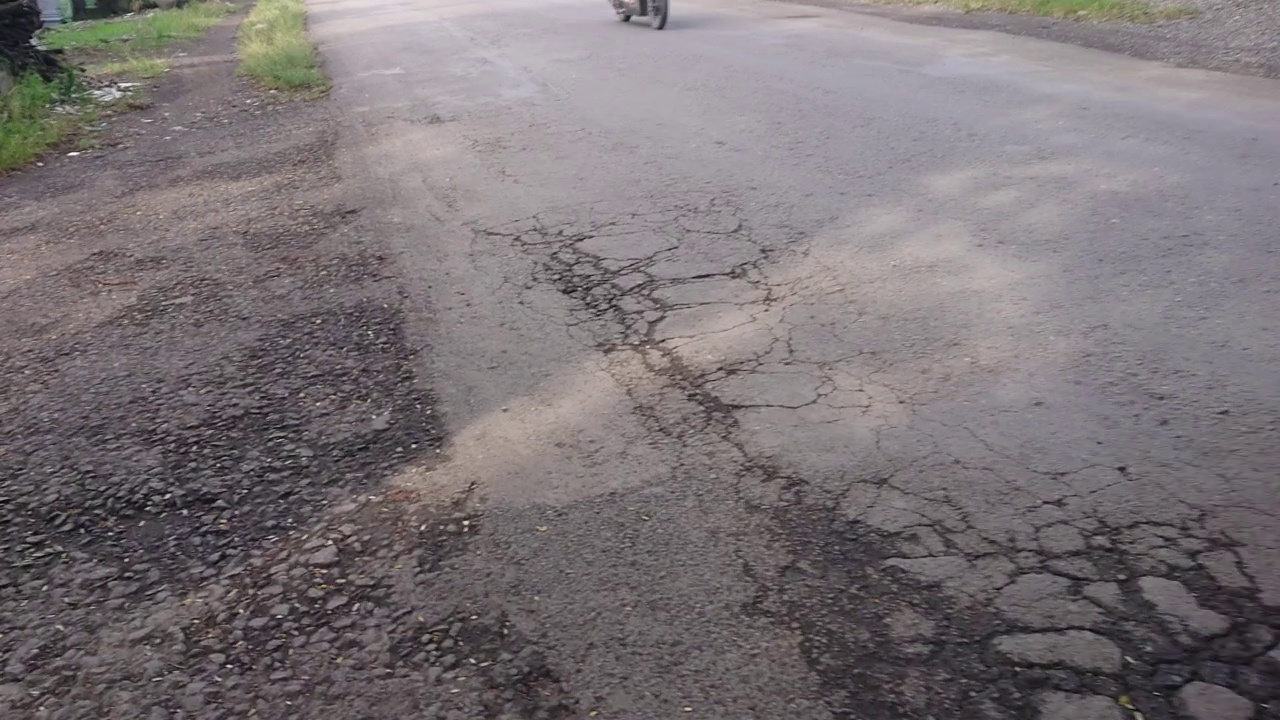Retak: (857, 506, 1280, 720), (554, 251, 780, 465), (750, 480, 856, 720)
